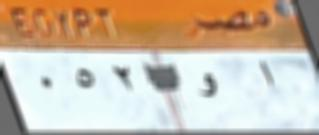0: (37, 68, 58, 100)
2: (113, 63, 137, 98)
5: (70, 62, 98, 98)
alif: (249, 53, 283, 99)
waw: (192, 69, 225, 108)
